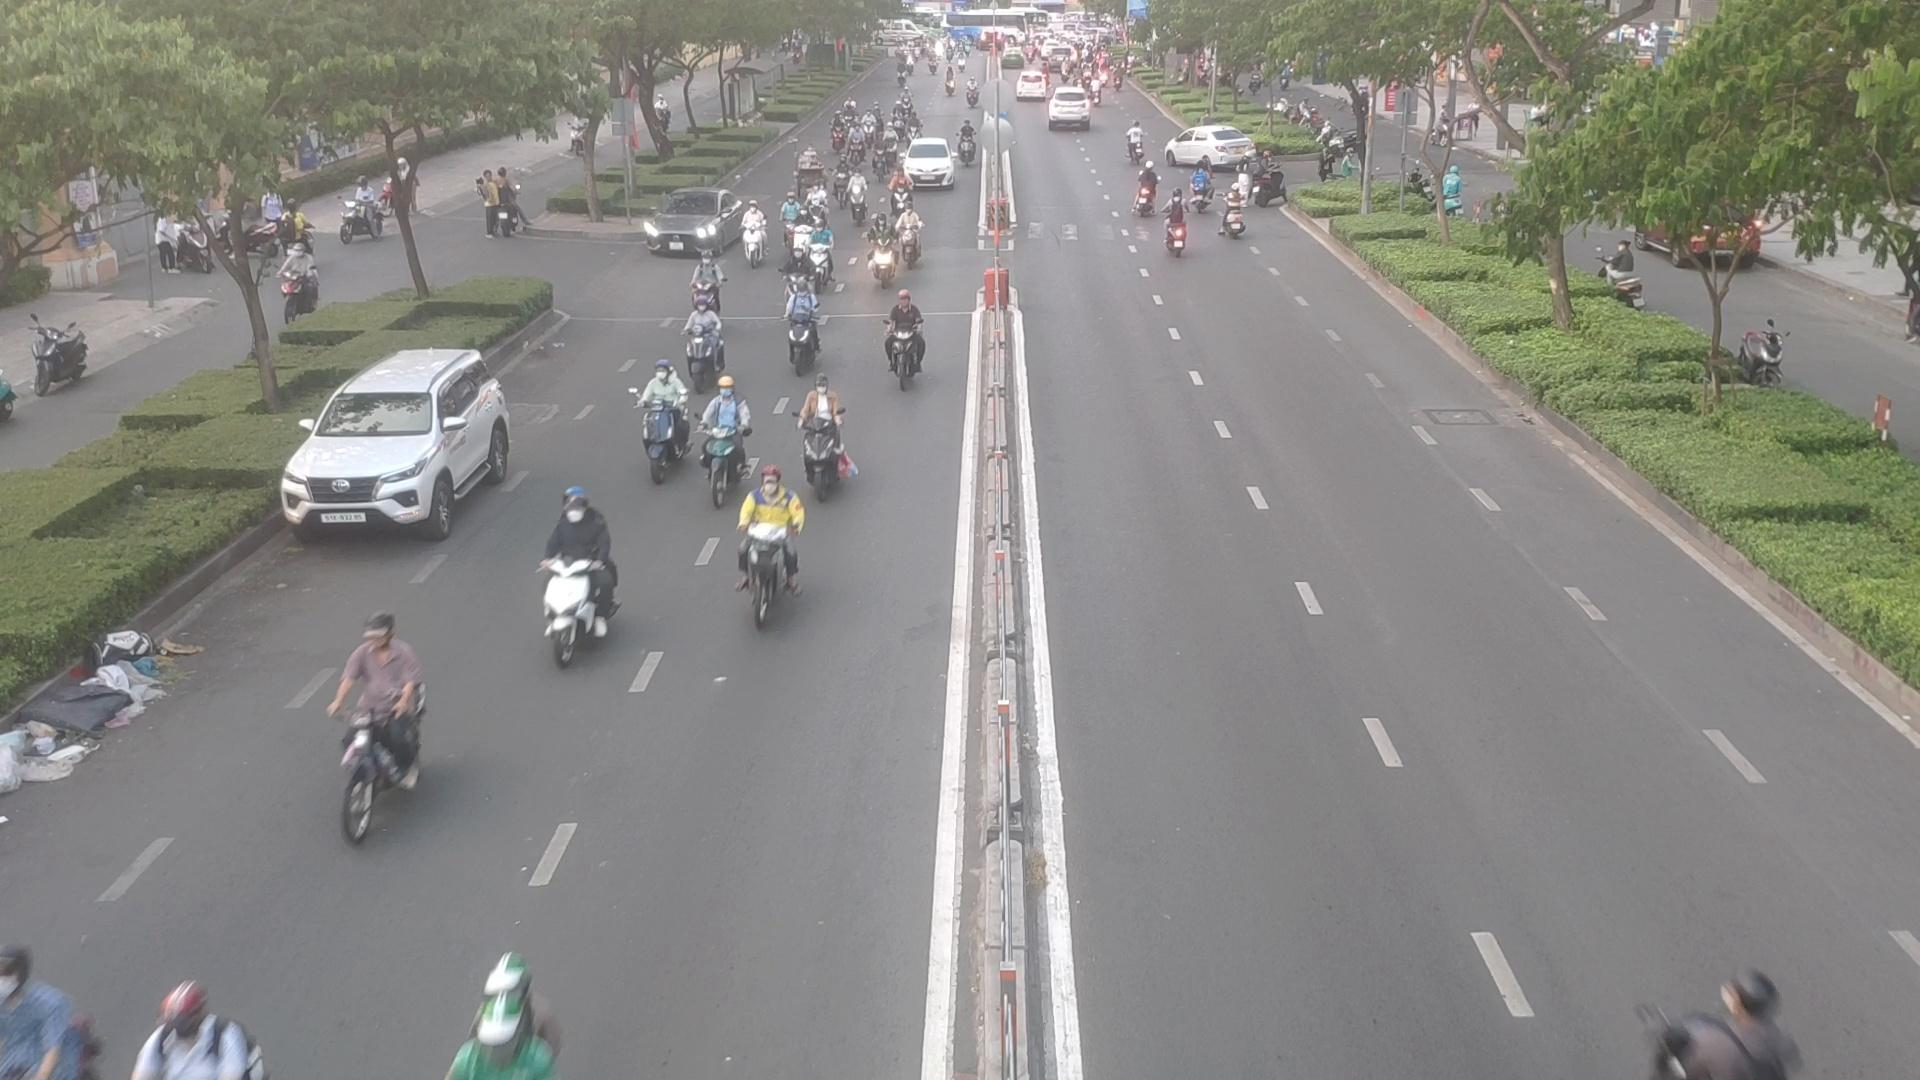car: (280, 345, 520, 538), (640, 191, 758, 262), (1168, 128, 1259, 167), (902, 136, 957, 186)
motorbike: (330, 624, 435, 855), (534, 492, 624, 674), (738, 469, 814, 647), (700, 371, 756, 516), (769, 273, 828, 375), (638, 367, 691, 480), (802, 381, 853, 483), (670, 301, 720, 381), (894, 297, 923, 392), (866, 214, 899, 286), (775, 247, 815, 302), (735, 193, 764, 262), (688, 247, 724, 301), (1160, 191, 1191, 255), (810, 216, 837, 284), (894, 203, 923, 258), (1130, 165, 1160, 212), (1224, 185, 1244, 247), (1125, 117, 1149, 167), (847, 173, 869, 225), (1195, 160, 1212, 218), (870, 133, 890, 182), (957, 117, 975, 167), (828, 109, 847, 153), (884, 125, 902, 164), (793, 208, 808, 249), (831, 157, 847, 198), (782, 194, 795, 243), (905, 112, 923, 146), (847, 127, 862, 165), (956, 120, 957, 121)
